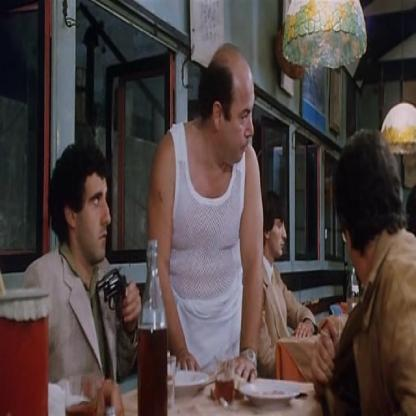gun: (95, 255, 138, 333)
